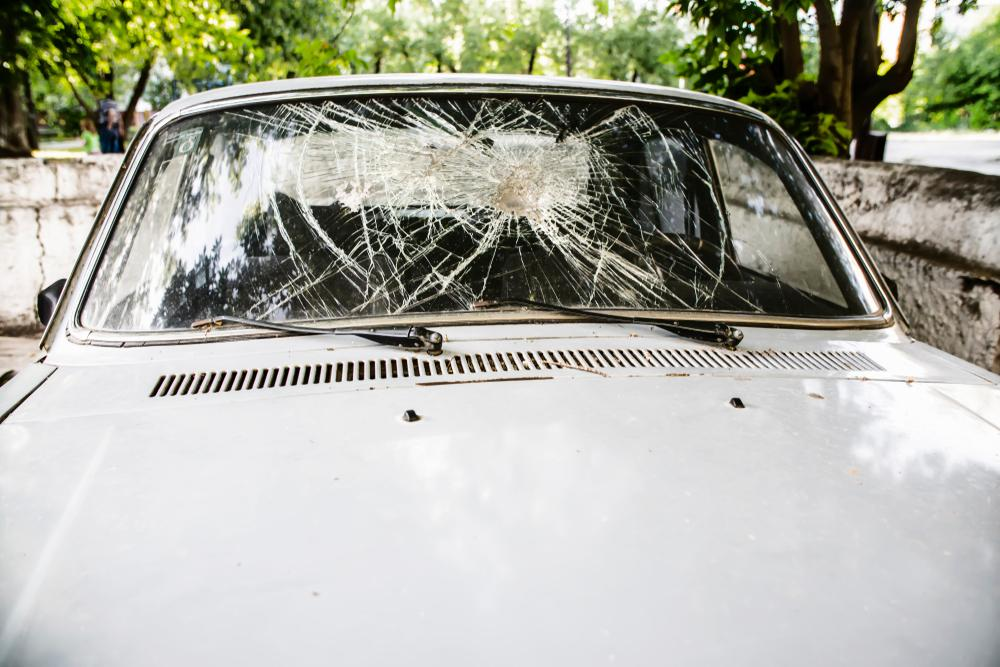glass shatter: (80, 90, 885, 331)
